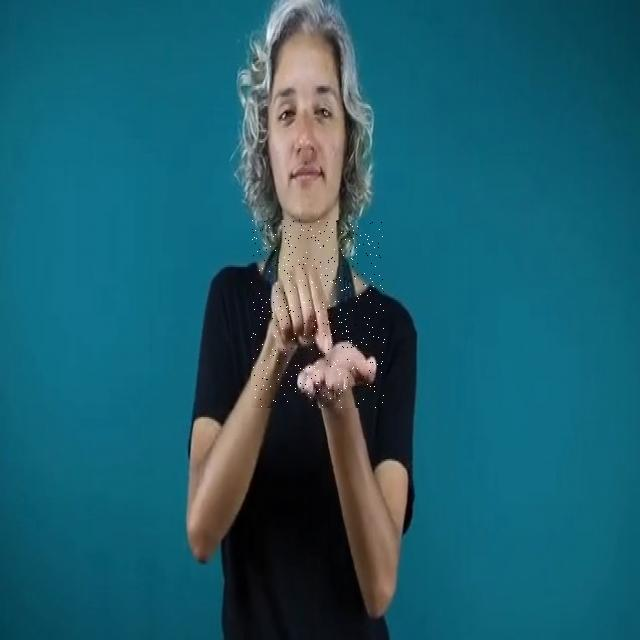chicken: (252, 220, 386, 408)
